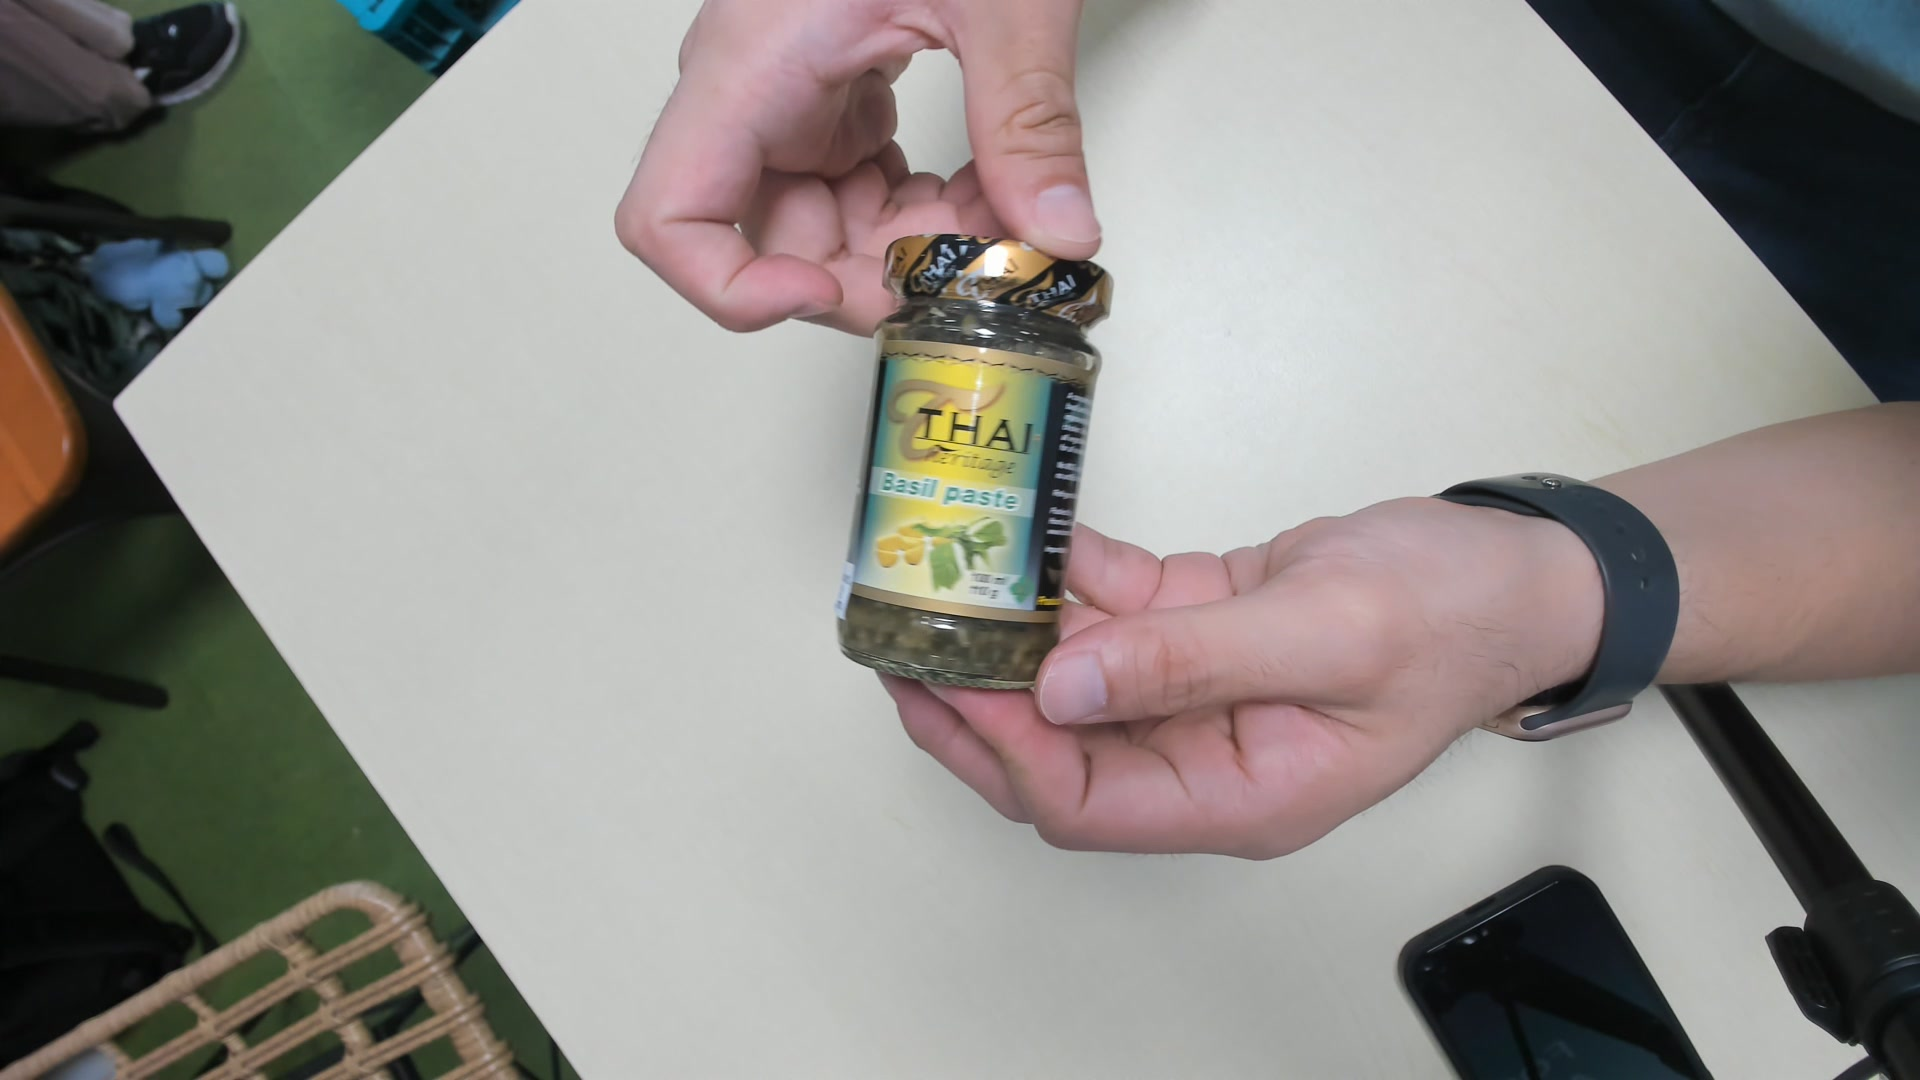OtherSauceDressing_0-99g_Halal_NonHealthy: (828, 232, 1117, 700)
